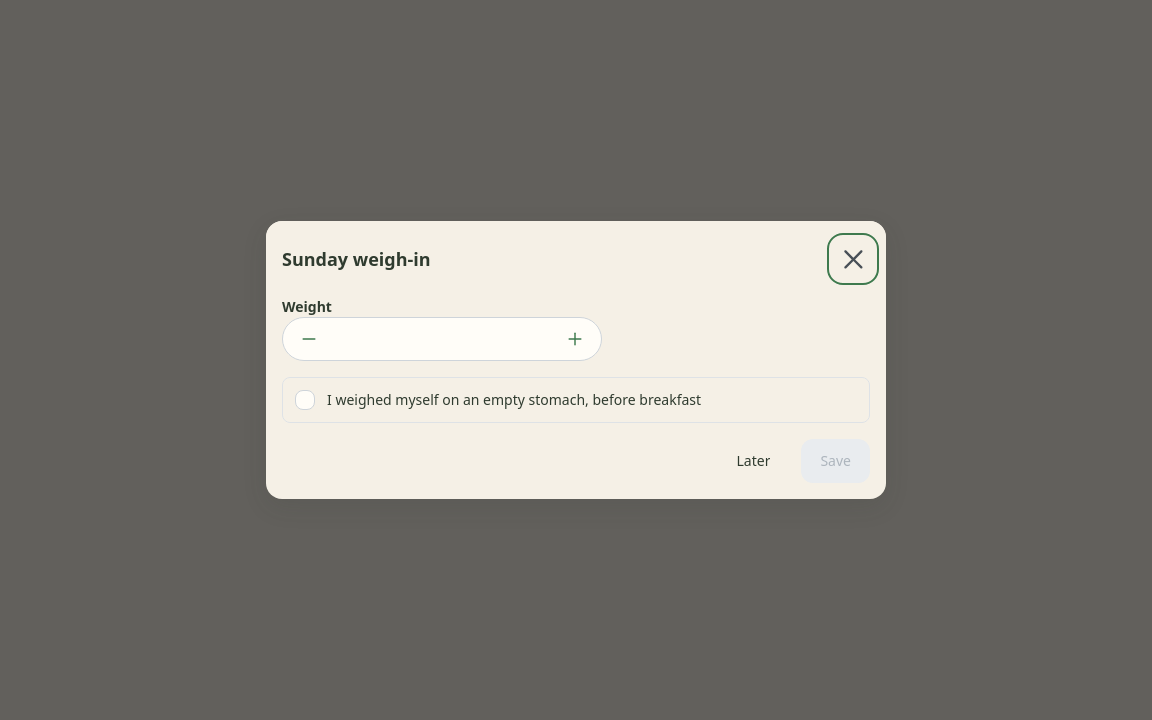
Test case: F2-18 WeighInDialog › RF-05 clears the range error once the weight changes
In the field labelled "Weight": (442, 339) left=282, top=317, right=602, bottom=361, type "7"
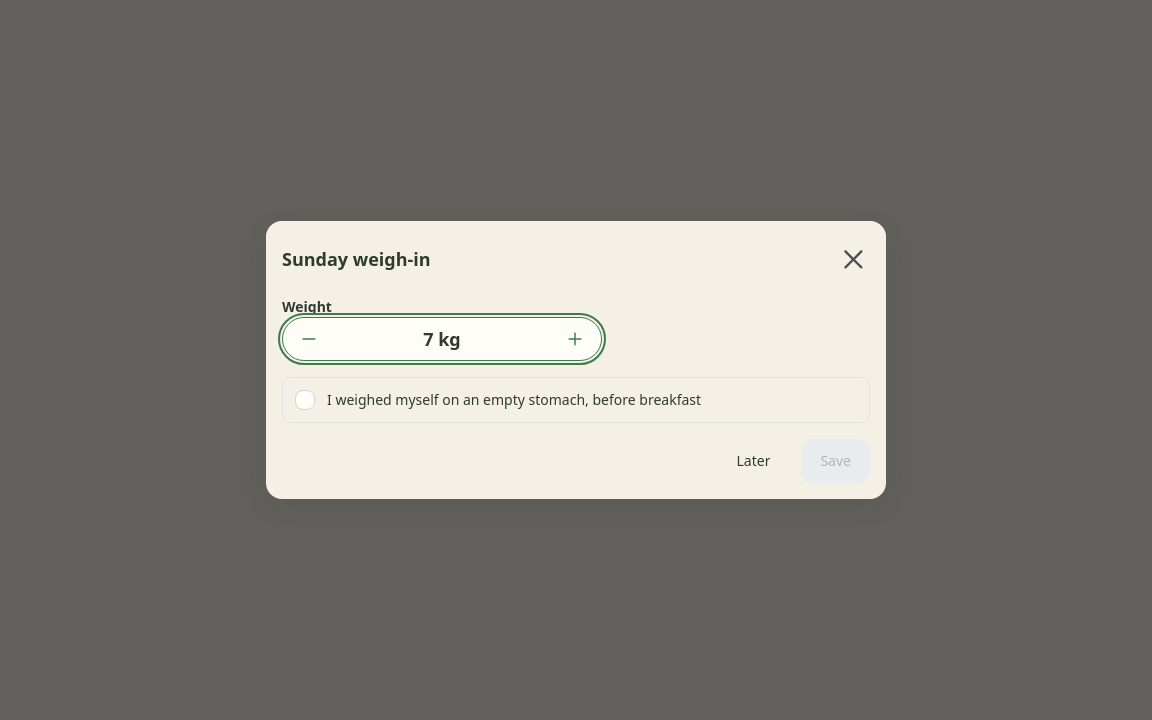
Click the checkbox labelled "I weighed myself on an empty stomach, before breakfast": click(576, 400) left=282, top=377, right=870, bottom=423
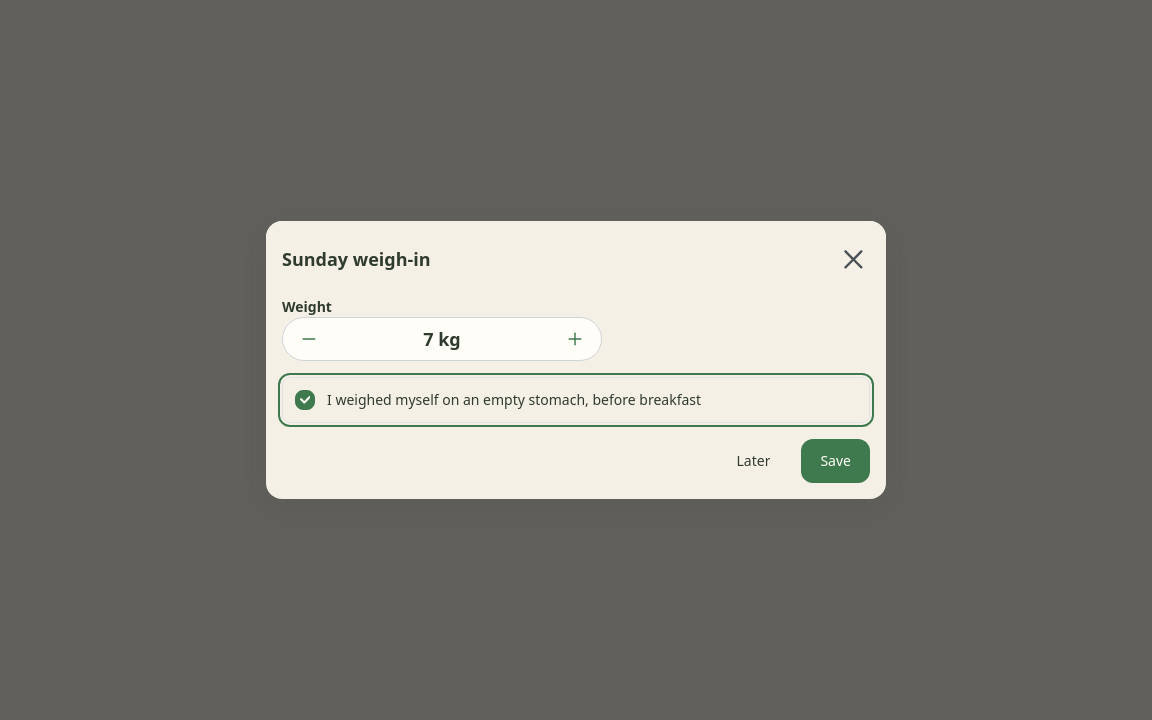
Click the button "Save": click(836, 461) left=801, top=439, right=870, bottom=483
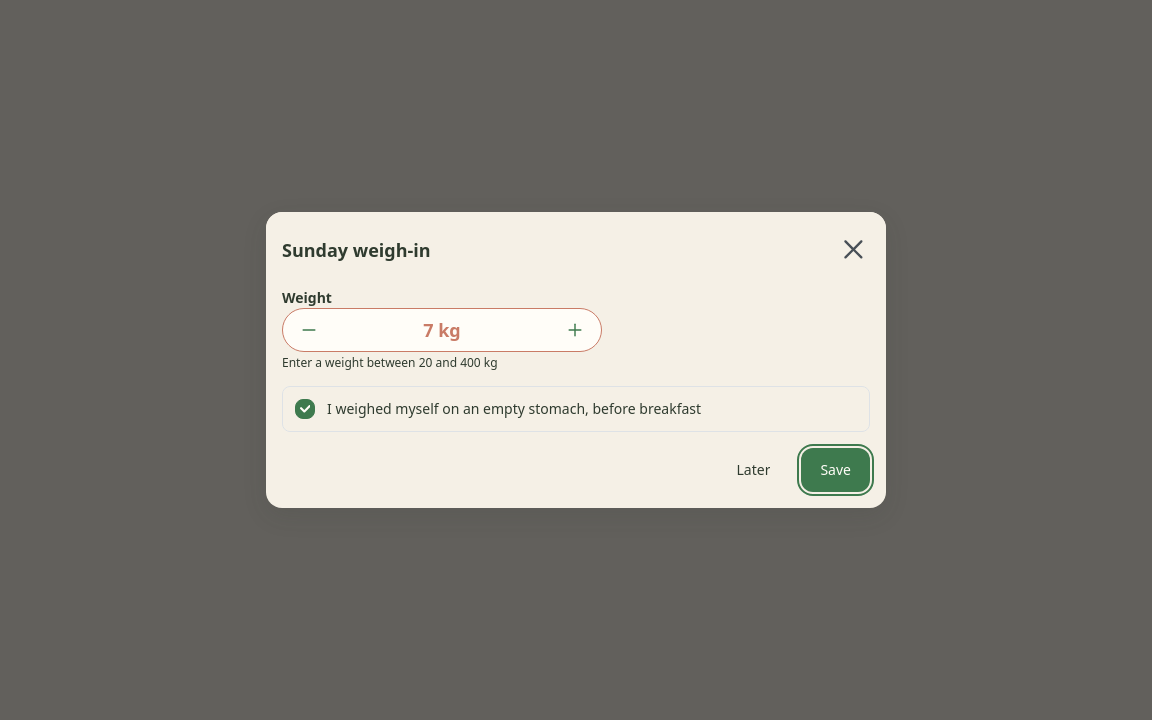
In the field labelled "Weight": (442, 330) left=282, top=308, right=602, bottom=352, type "8"
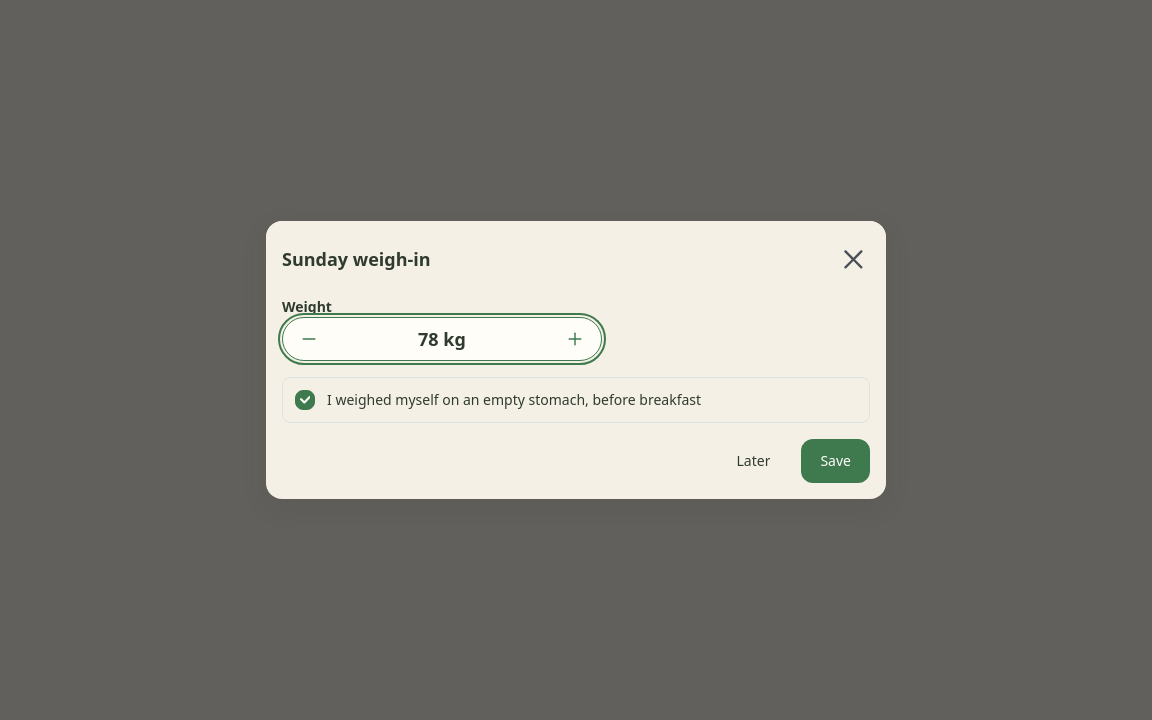
Now the message "Enter a weight between 20 and 400 kg" is gone
